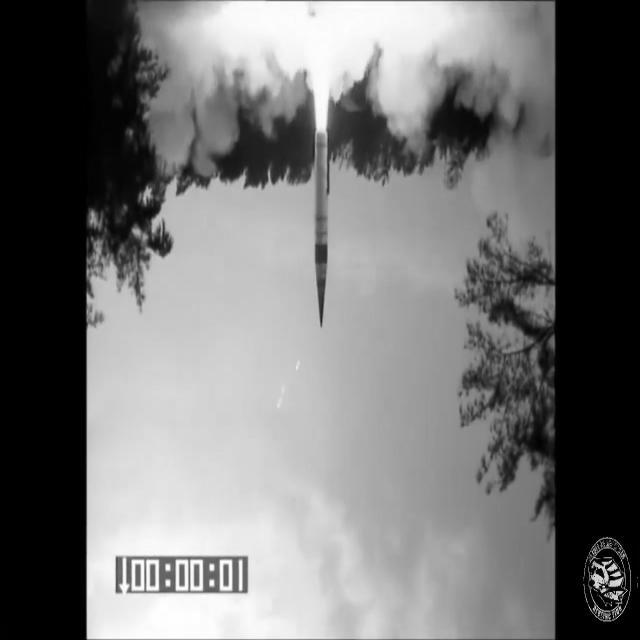missile: (313, 135, 332, 325)
